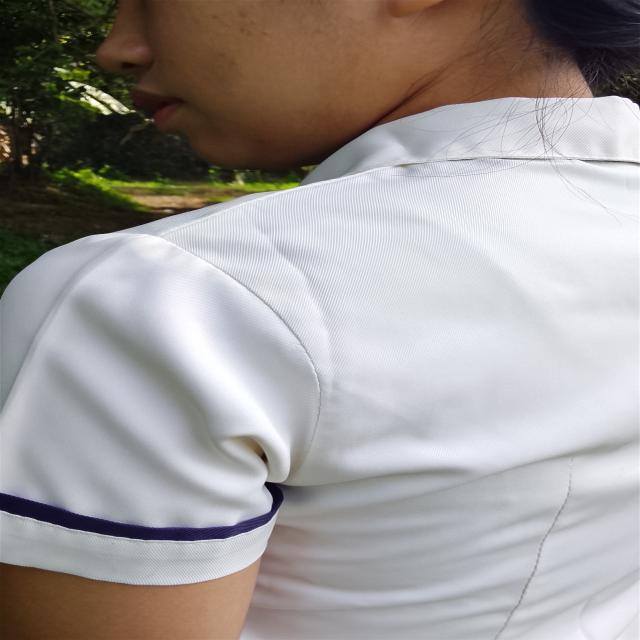education_female_uniform: (33, 73, 640, 640)
